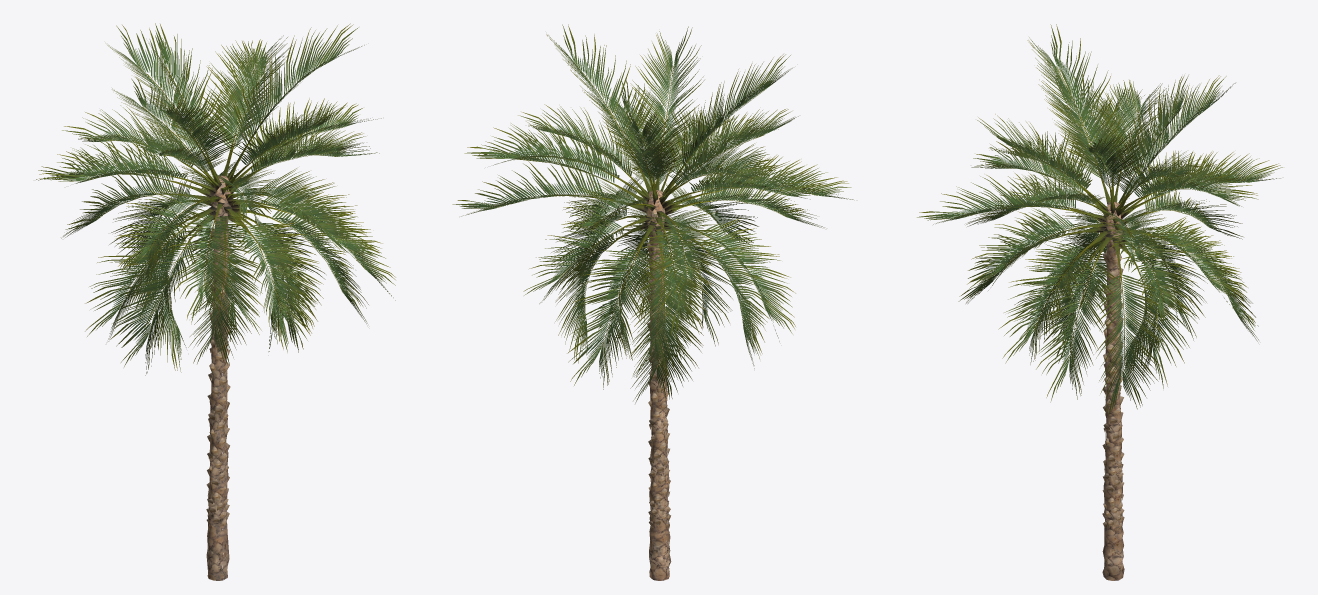
The model's file is palma.glb.
3 views of the same model, side by side, from view 1: azimuth 30°, elevation 25°; view 2: azimuth 150°, elevation 25°; view 3: azimuth 270°, elevation 25° (orthographic). The views are drawn at different scales.
Parts seen in each view (by area): view 1: Tree_1, Tree_0, Tree_3, Tree_2; view 2: Tree_1, Tree_0, Tree_3, Tree_2; view 3: Tree_1, Tree_0, Tree_3, Tree_2.
Part boxes in pixels (<box>): Tree_1: <box>36,23,395,375</box>; Tree_0: <box>206,175,230,580</box>; Tree_3: <box>155,128,293,264</box>; Tree_2: <box>206,229,230,526</box>; Tree_1: <box>452,24,853,403</box>; Tree_0: <box>647,190,671,580</box>; Tree_3: <box>583,139,723,283</box>; Tree_2: <box>647,242,670,527</box>; Tree_1: <box>917,24,1282,417</box>; Tree_0: <box>1102,202,1124,580</box>; Tree_3: <box>1049,149,1167,292</box>; Tree_2: <box>1102,252,1124,529</box>.
Bounding box in the file's own units: 5.46 × 7.34 × 5.21.
Materials: 4 (4 with a texture image).
